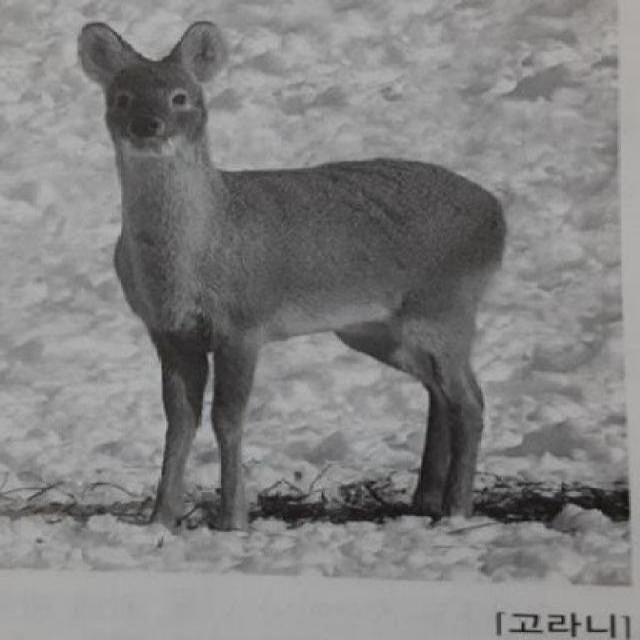deer: (74, 19, 514, 530)
